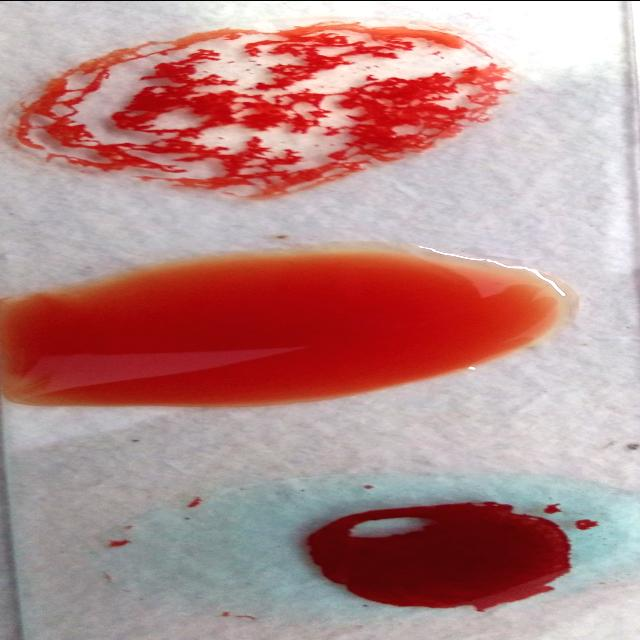A: (84, 472, 616, 620)
D: (6, 31, 512, 176)
